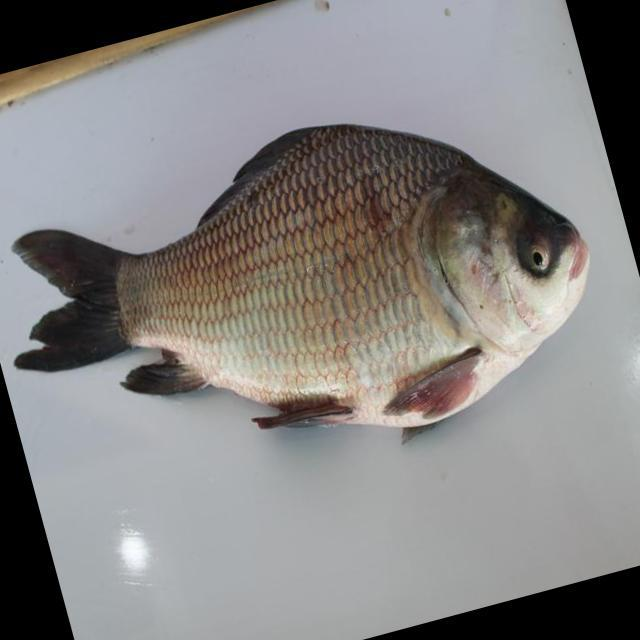Catla: (10, 116, 598, 449)
